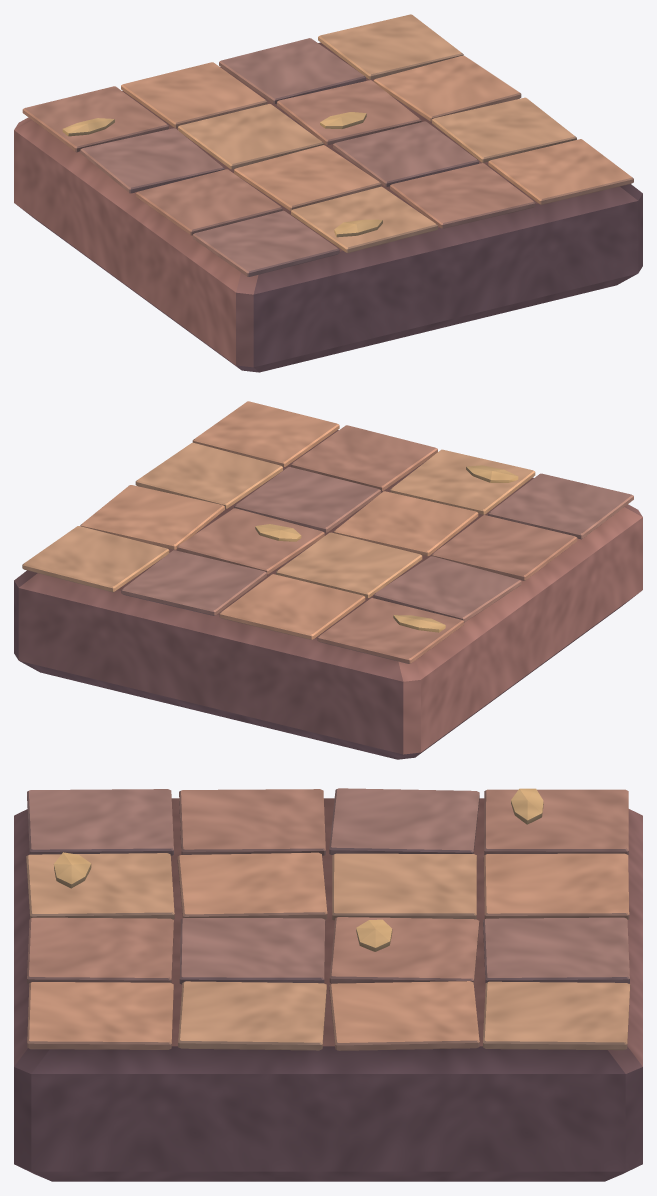
Rendered from dusk_floor_clay.glb.
The picture shows the model from 3 angles, top to bottom: view 1: azimuth 30°, elevation 25°; view 2: azimuth 150°, elevation 25°; view 3: azimuth 270°, elevation 25°; orthographic projection. The views are drawn at different scales.
Visible parts, largest first — view 1: Dämmergänge · clay; view 2: Dämmergänge · clay; view 3: Dämmergänge · clay.
Part boxes in pixels (x1,y1,x2,y2): Dämmergänge · clay: (14,14,642,372); Dämmergänge · clay: (14,401,642,759); Dämmergänge · clay: (14,788,642,1181).
Size of the model in its own units: 2.4 by 0.626 by 2.4.
Materials: 1 (1 with a texture image).
